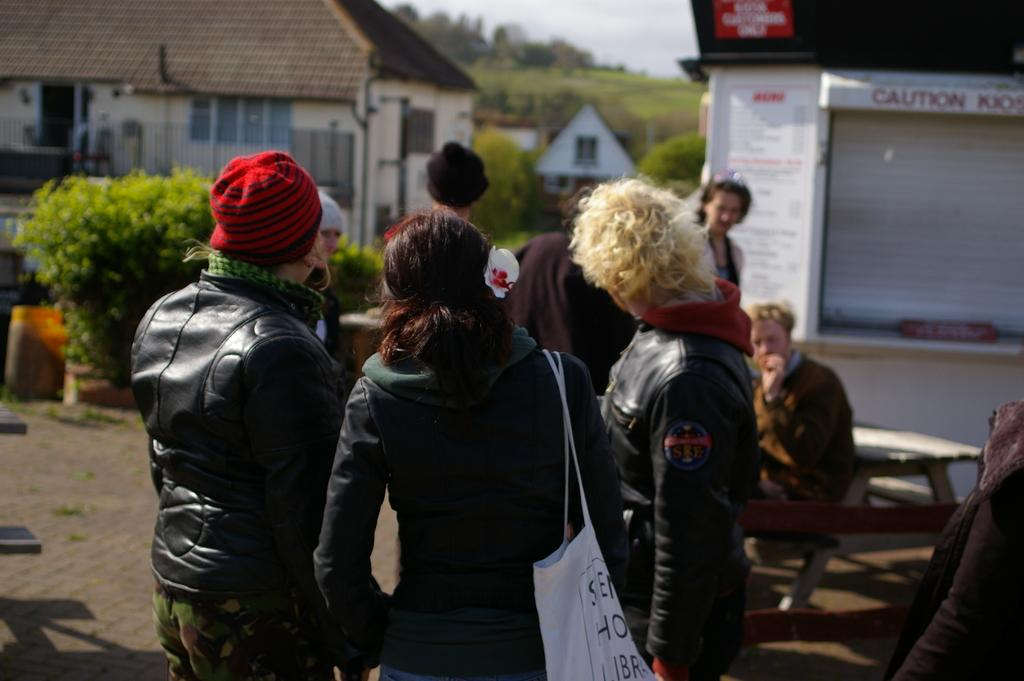Hat: (424, 138, 492, 208)
